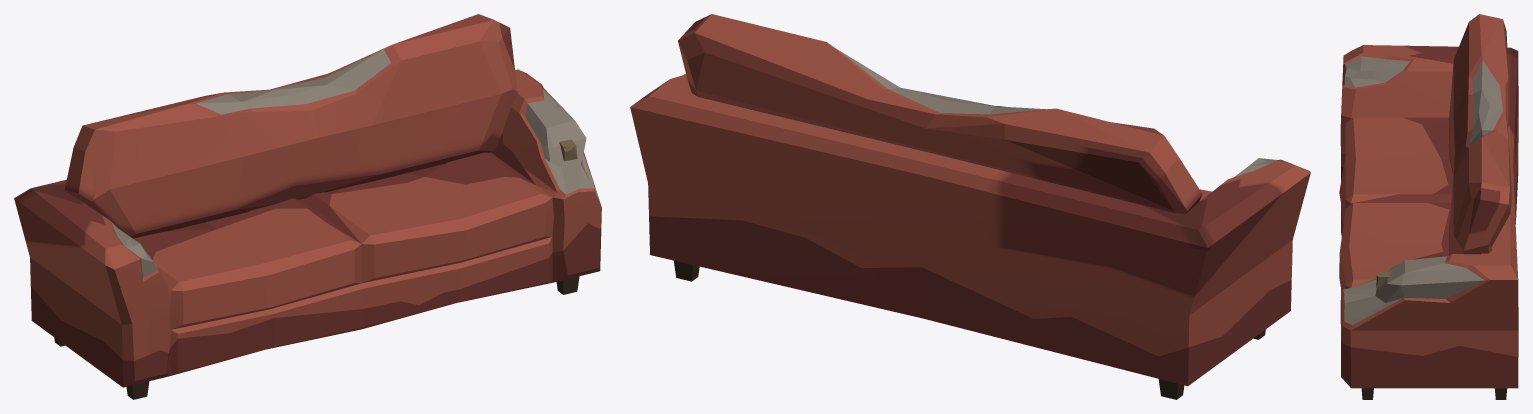
The model's file is SM_Prop_Couch_01.obj.
The picture shows the model from 3 angles, left to right: view 1: azimuth 30°, elevation 25°; view 2: azimuth 150°, elevation 25°; view 3: azimuth 270°, elevation 25°; orthographic projection. The views are drawn at different scales.
Visible parts, largest first — view 1: SM_Prop_Couch_01_0; view 2: SM_Prop_Couch_01_0; view 3: SM_Prop_Couch_01_0.
Boxes of the visible parts, x1,y1,x2,y2 form: SM_Prop_Couch_01_0: (14, 14, 601, 399); SM_Prop_Couch_01_0: (630, 14, 1310, 399); SM_Prop_Couch_01_0: (1339, 14, 1518, 399).
Bounding box in the file's own units: 2.8 × 1.19 × 0.9262.
1 material, 1 textured.
